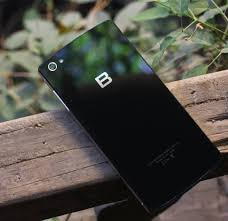bphone: (33, 17, 224, 212)
